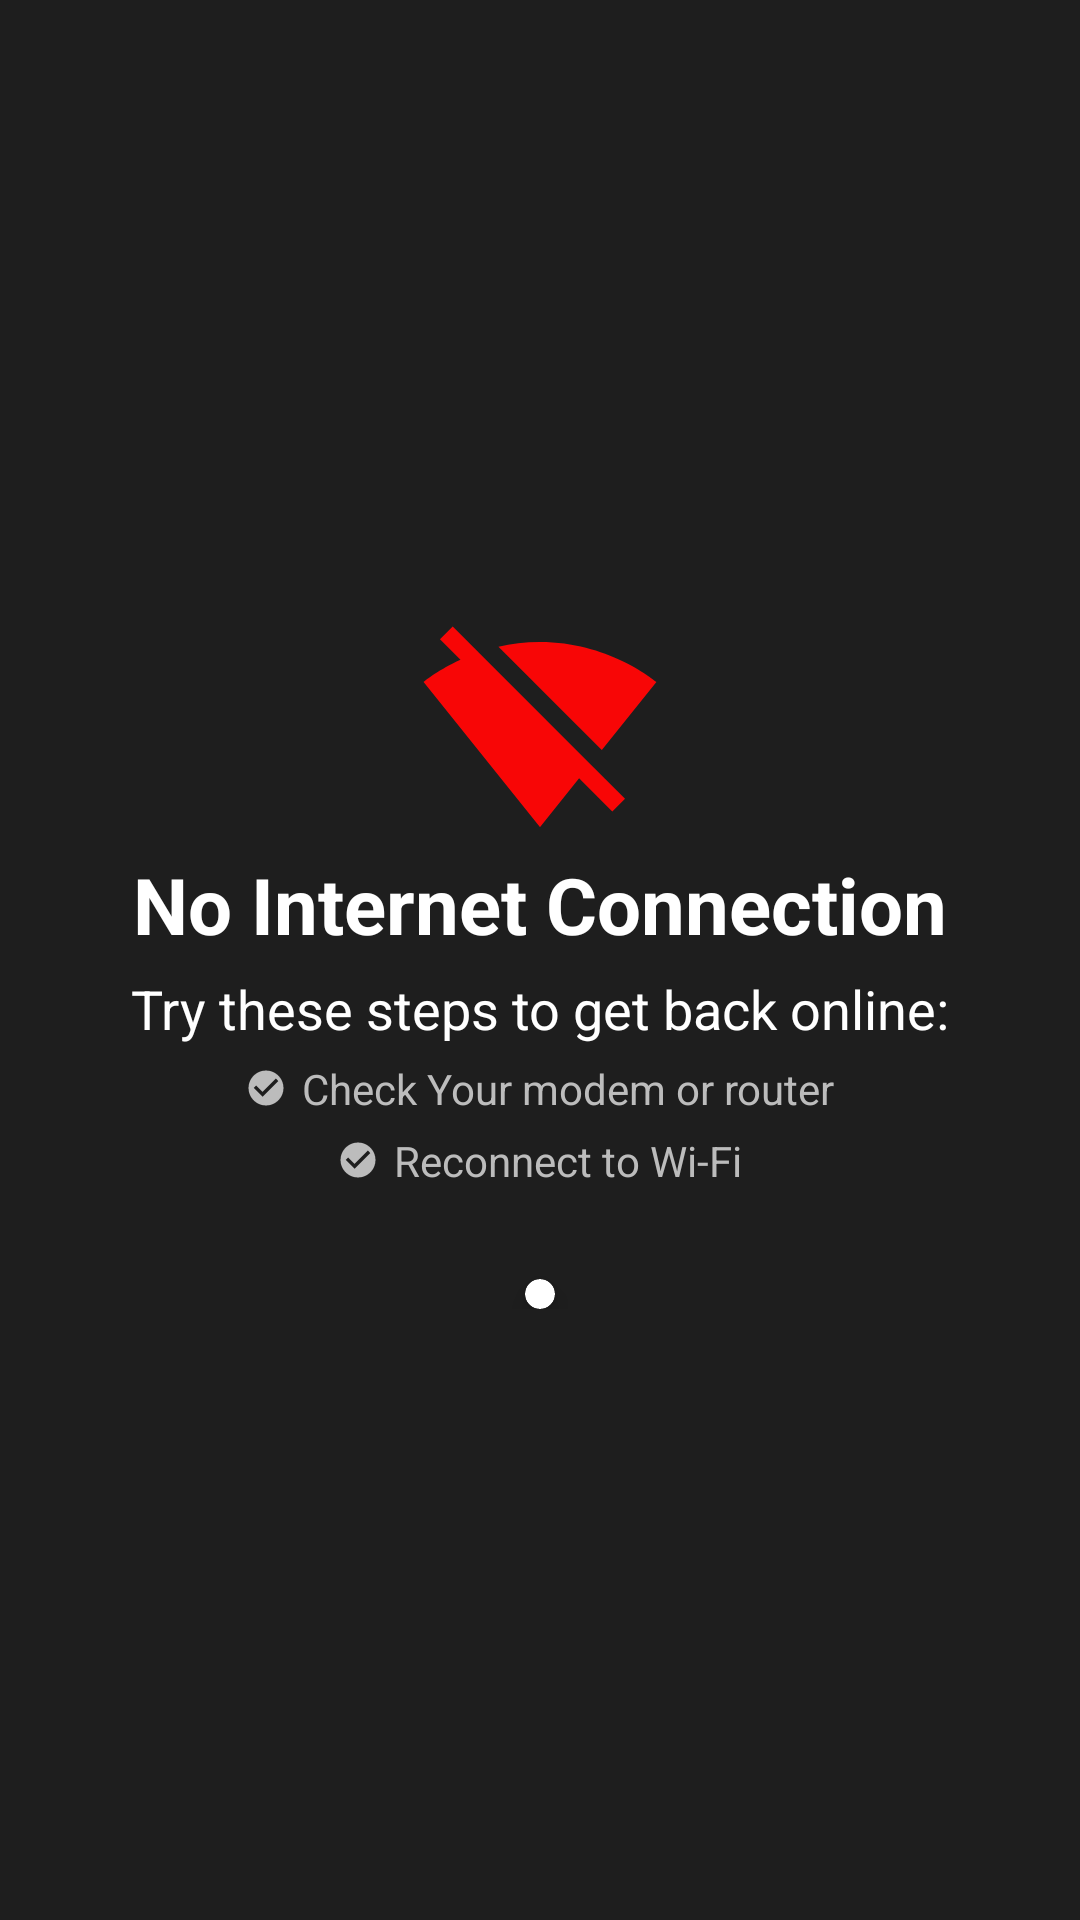

Named icons in this screenshot (1080x1920) and their bounding boxes, (x1, y1, x2, y2):
signal wifi off: (424, 626, 656, 827)
